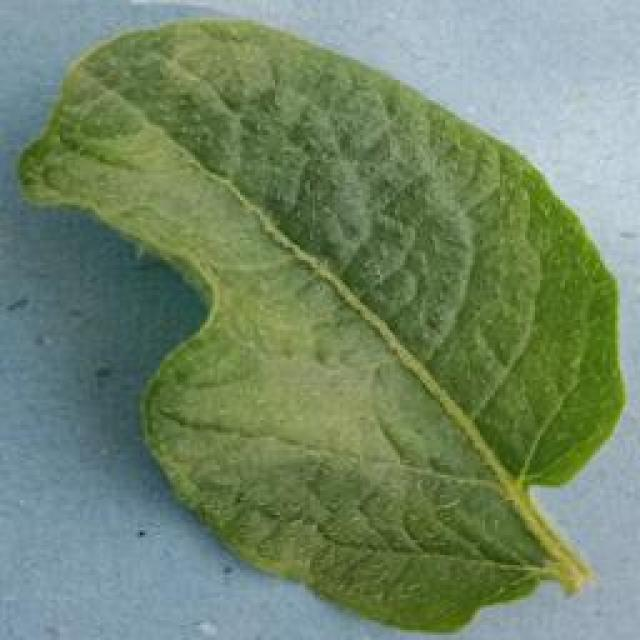Potato_Healthy: (18, 16, 614, 630)
